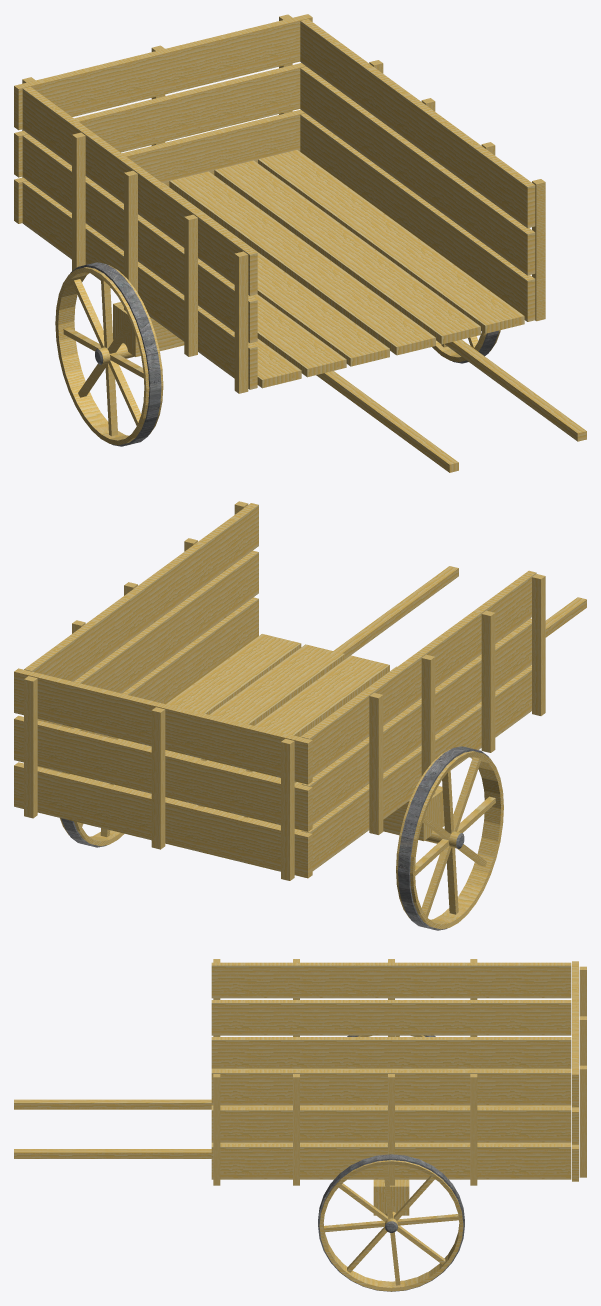
File: cart.fbx
3 renders of one model, top to bottom at view 1: azimuth 30°, elevation 25°; view 2: azimuth 150°, elevation 25°; view 3: azimuth 270°, elevation 25°, orthographic. The views are drawn at different scales.
Parts seen in each view (by area): view 1: Plank.015, Plank.010, Wheel.001, Plank.011, Plank.003, Plank.005, Plank.012, Plank.004, Plank.014, Plank.009, Plank.008, Plank.007 (+13 smaller); view 2: Plank.015, Plank.014, Plank.013, Wheel.001, Plank.010, Plank.009, Plank.008, Plank.007, Plank.011, Plank.012, Plank.003, Plank.005 (+12 smaller); view 3: Plank.009, Plank.008, Plank.010, Plank.011, Plank.007, Plank.012, Wheel, Plank.017, Plank.016, Plank.015, Plank.001, Plank.006 (+7 smaller).
Part boxes in pixels (x1,y1,x2,y2): Plank.015: (14, 14, 312, 130); Plank.010: (300, 19, 535, 228); Wheel.001: (55, 262, 163, 446); Plank.011: (300, 66, 535, 275); Plank.003: (169, 171, 435, 355); Plank.005: (214, 160, 480, 344); Plank.012: (300, 113, 535, 321); Plank.004: (258, 150, 524, 333); Plank.014: (14, 63, 305, 177); Plank.009: (22, 86, 257, 295); Plank.008: (22, 134, 257, 343); Plank.007: (22, 181, 257, 389); Plank.015: (14, 668, 312, 784); Plank.014: (14, 715, 312, 831); Plank.013: (14, 762, 312, 878); Wheel.001: (396, 746, 503, 930); Plank.010: (24, 503, 258, 681); Plank.009: (302, 570, 536, 777); Plank.008: (301, 618, 531, 824); Plank.007: (302, 665, 531, 870); Plank.011: (37, 550, 258, 728); Plank.012: (37, 597, 258, 774); Plank.003: (165, 655, 389, 807); Plank.005: (113, 644, 344, 794); Plank.009: (211, 962, 571, 998); Plank.008: (211, 1000, 571, 1035); Plank.010: (211, 1069, 571, 1105); Plank.011: (211, 1107, 571, 1142); Plank.007: (211, 1037, 571, 1068); Plank.012: (211, 1144, 571, 1179); Wheel: (318, 1154, 464, 1291); Plank.017: (14, 1099, 211, 1109); Plank.016: (14, 1149, 211, 1158); Plank.015: (572, 961, 578, 1107); Plank.001: (211, 1105, 571, 1107); Plank.006: (373, 1179, 409, 1215).
Size of the model in its own units: 462 by 316 by 797.
